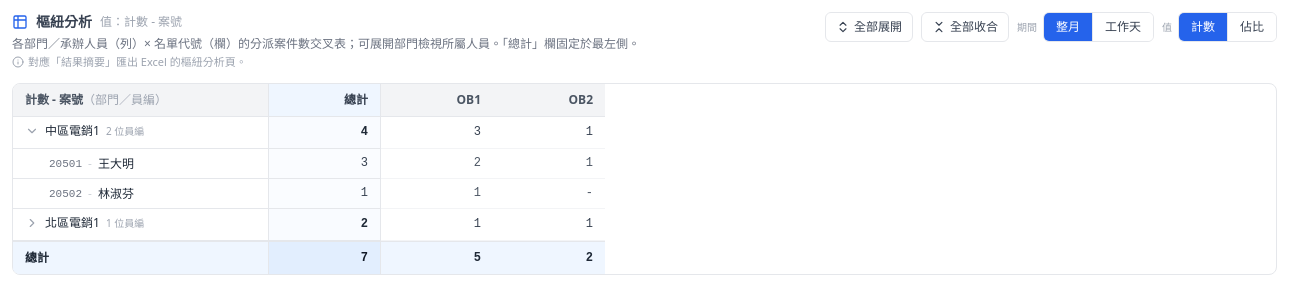
Scenario: SnapshotPivotView (F116) › 計數 / 佔比 toggle：切至佔比顯示百分比
Expected: the text "%" is not shown
Click the button with test id "pivot-mode-pct" at (1252, 27), box [1227,13,1276,41]
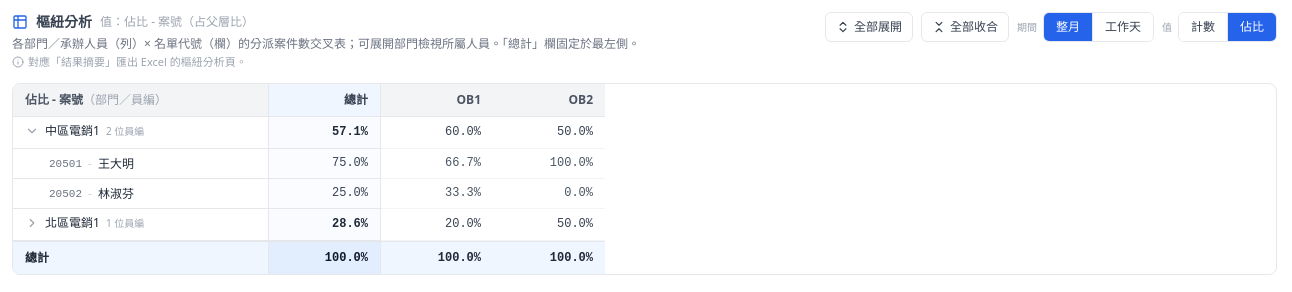
Expected: the text "57.1%" is shown, [269,116,381,148]
